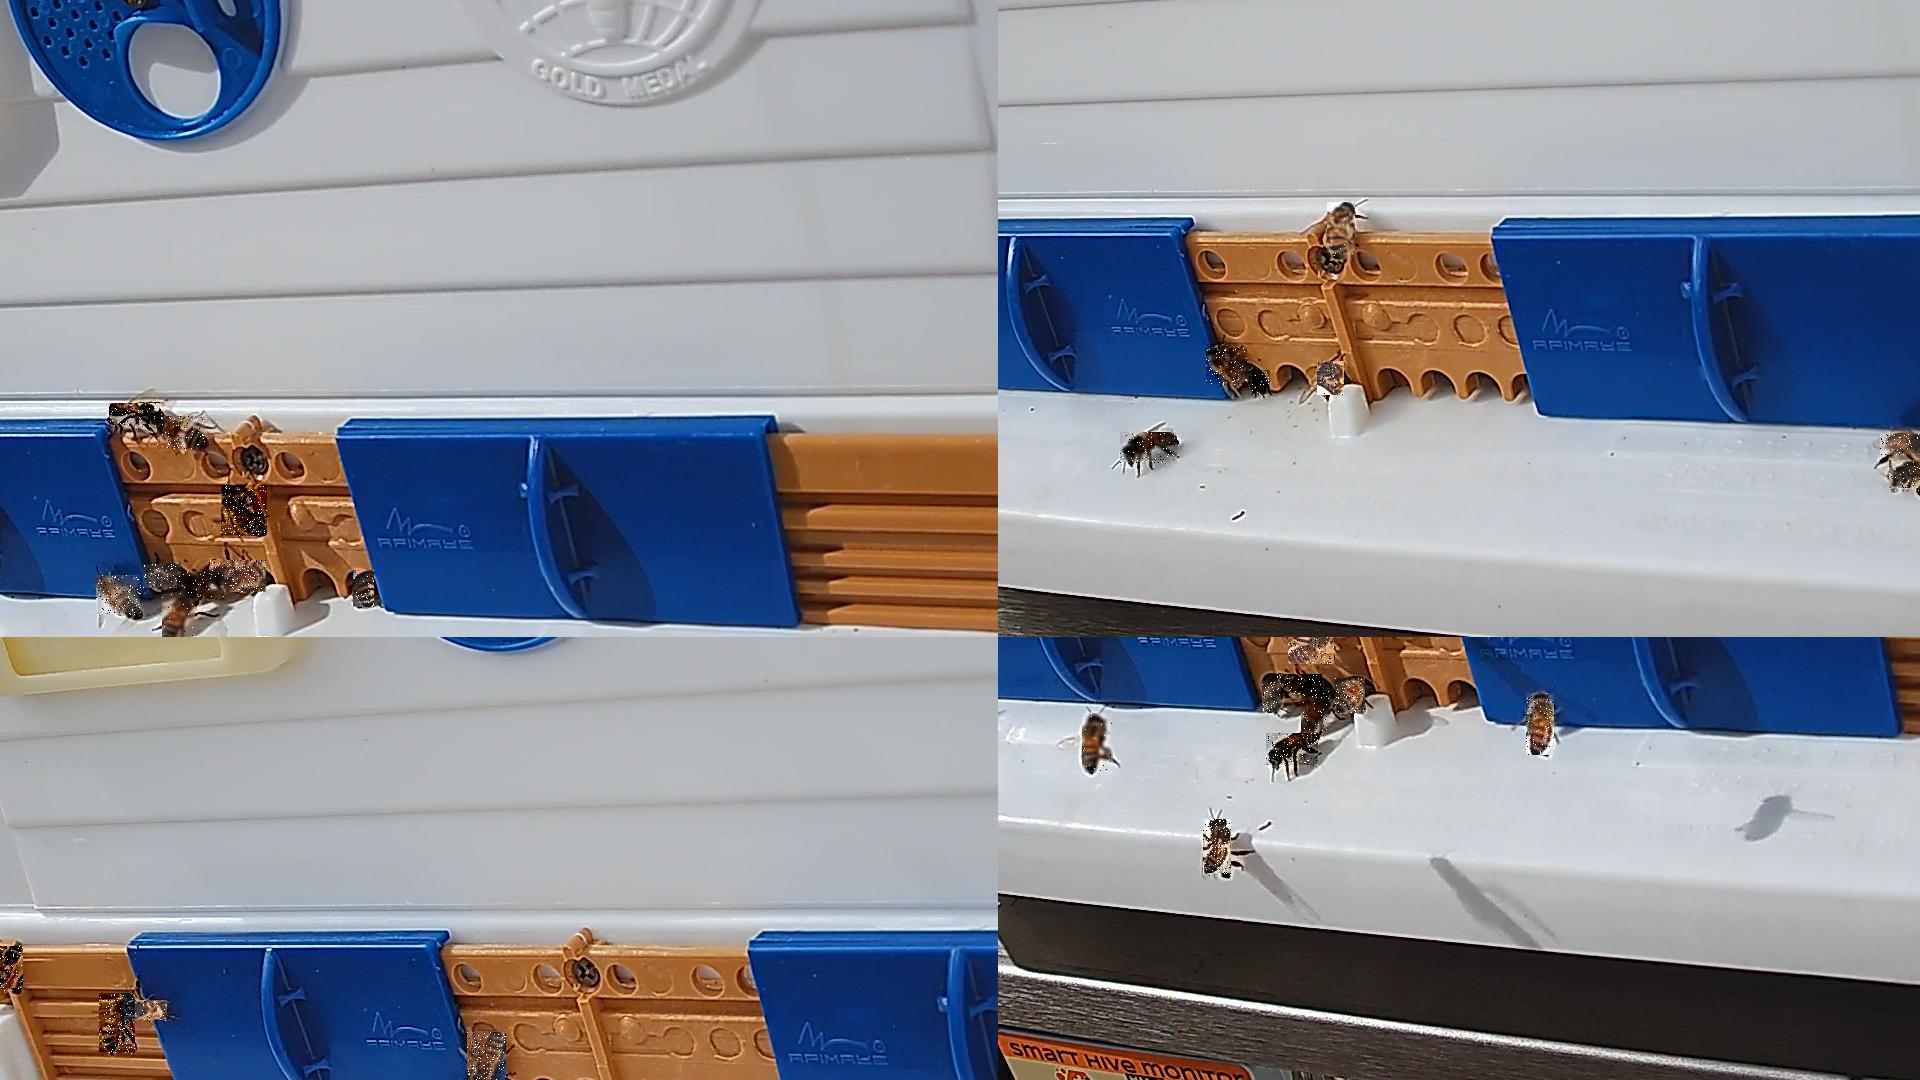bee: (222, 485, 268, 537), (99, 994, 136, 1056), (210, 560, 268, 593), (1120, 433, 1178, 465), (96, 576, 142, 617), (467, 1033, 508, 1079), (1266, 733, 1319, 769), (1527, 694, 1555, 756), (1203, 820, 1232, 878), (157, 417, 206, 450), (1207, 349, 1249, 386), (162, 593, 198, 636), (1288, 637, 1336, 666), (109, 404, 164, 429), (177, 572, 225, 599), (0, 945, 25, 993), (1302, 691, 1331, 732), (1336, 678, 1366, 715), (1275, 675, 1324, 698), (1888, 460, 1919, 493), (124, 1001, 167, 1023), (144, 564, 182, 589), (1317, 361, 1345, 396), (1880, 434, 1919, 458), (353, 571, 375, 608), (1262, 682, 1282, 713), (1251, 371, 1271, 396)
pollenbee: (1083, 713, 1114, 774), (1327, 203, 1356, 258)
